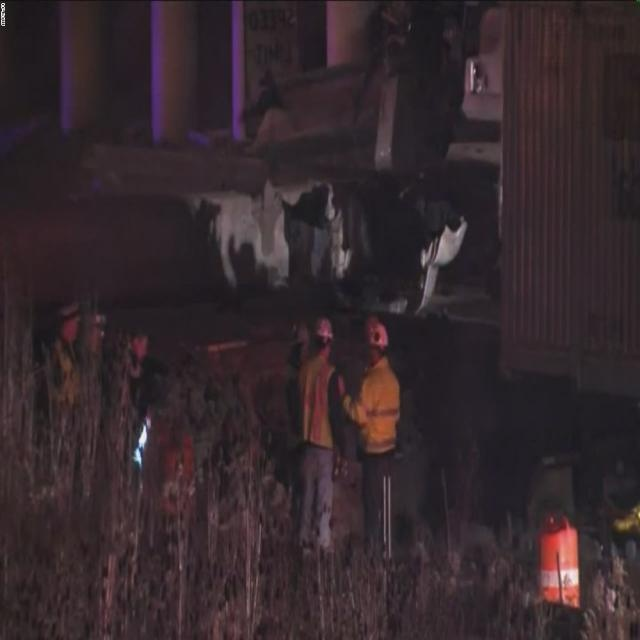Con_Chaleco: (356, 363, 400, 456)
